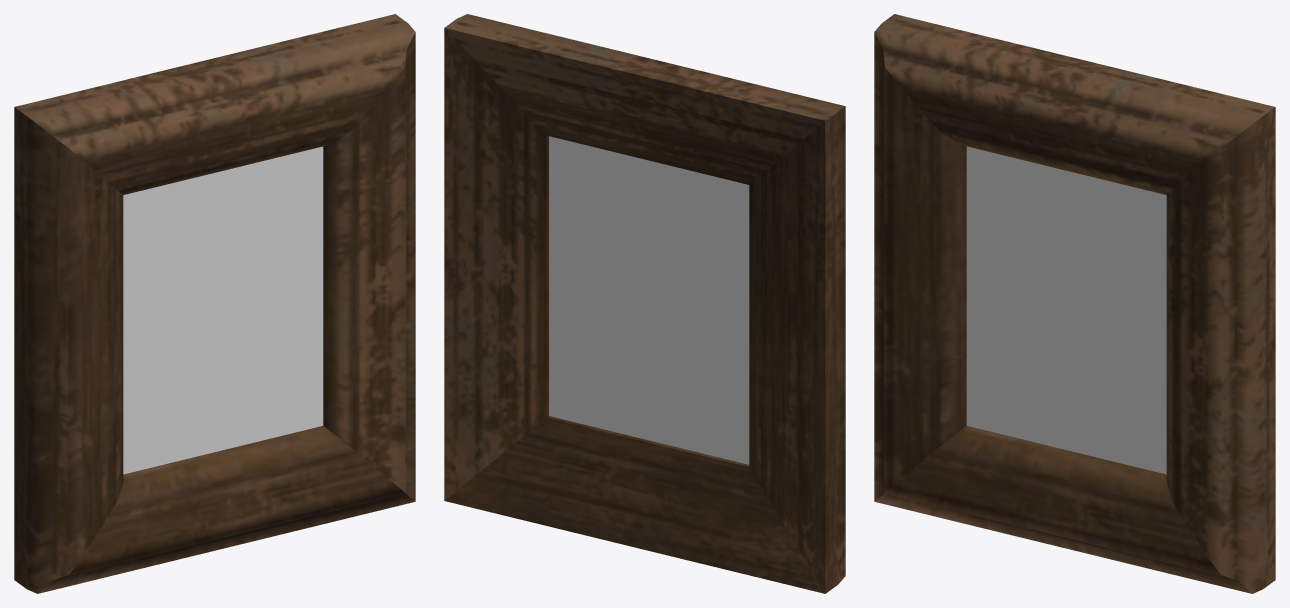
The model's file is Mirror_Tiny_Framed.FBX.
3 renders of one model, left to right at view 1: azimuth 30°, elevation 25°; view 2: azimuth 150°, elevation 25°; view 3: azimuth 330°, elevation 25°, orthographic.
Parts seen in each view (by area): view 1: Mirror_Tiny_Framed; view 2: Mirror_Tiny_Framed; view 3: Mirror_Tiny_Framed.
Boxes of the visible parts, <box> form: Mirror_Tiny_Framed: <box>14,14,415,593</box>; Mirror_Tiny_Framed: <box>444,14,845,593</box>; Mirror_Tiny_Framed: <box>874,14,1275,593</box>.
Size of the model in its own units: 30.59 by 36.28 by 4.49.
